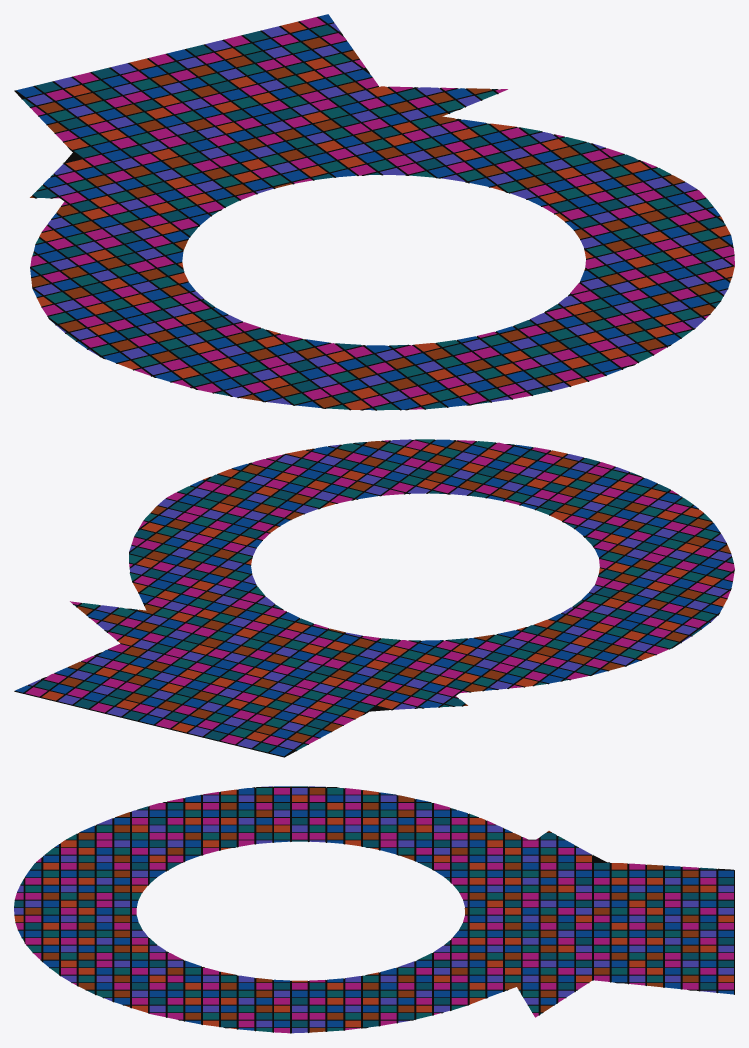
Rendered from roundDiscoFloor.glb.
3 views of the same model, one above another, from view 1: azimuth 30°, elevation 25°; view 2: azimuth 150°, elevation 25°; view 3: azimuth 270°, elevation 25° (orthographic). The views are drawn at different scales.
Parts seen in each view (by area): view 1: discoFloor; view 2: discoFloor; view 3: discoFloor.
Boxes of the visible parts, x1,y1,x2,y2 form: discoFloor: (14,14,734,410); discoFloor: (14,439,734,757); discoFloor: (14,786,734,1033).
Bounding box in the file's own units: 24.69 × 0.0249 × 30.45.
Materials: 1 (1 with a texture image).
